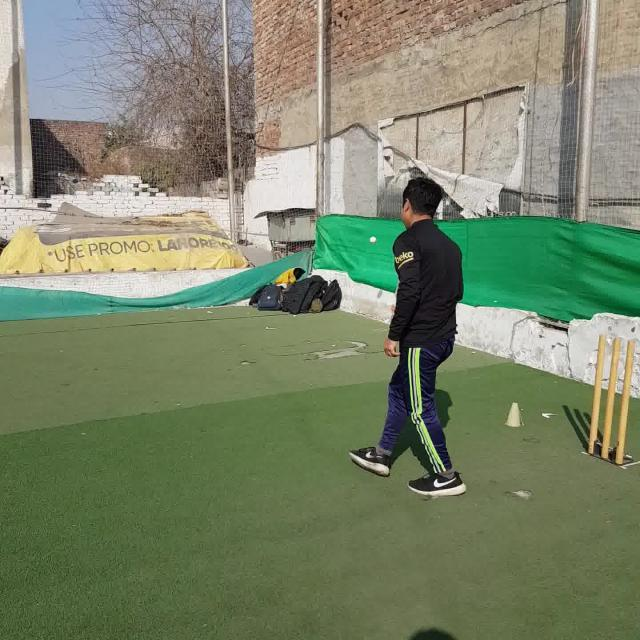ball: (369, 236, 377, 243)
